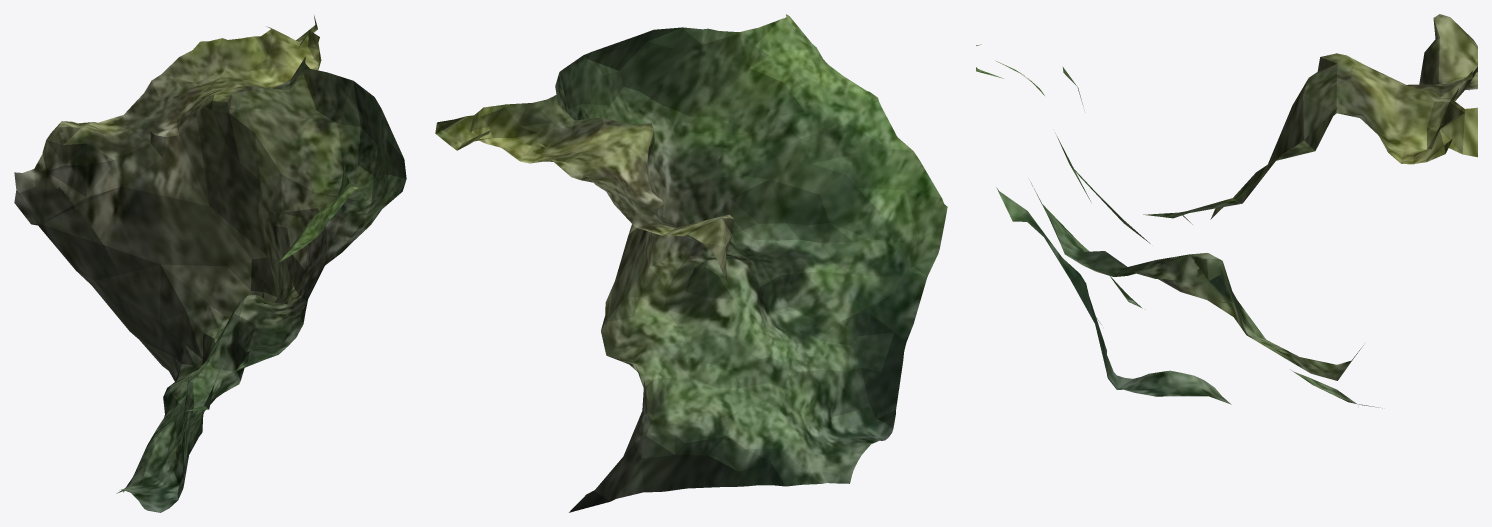
3 renders of one model, left to right at view 1: azimuth 30°, elevation 25°; view 2: azimuth 150°, elevation 25°; view 3: azimuth 270°, elevation 25°, orthographic. The views are drawn at different scales.
Size of the model in its own units: 2.7 by 2.95 by 2.95.
Materials: 4 (4 with a texture image).
